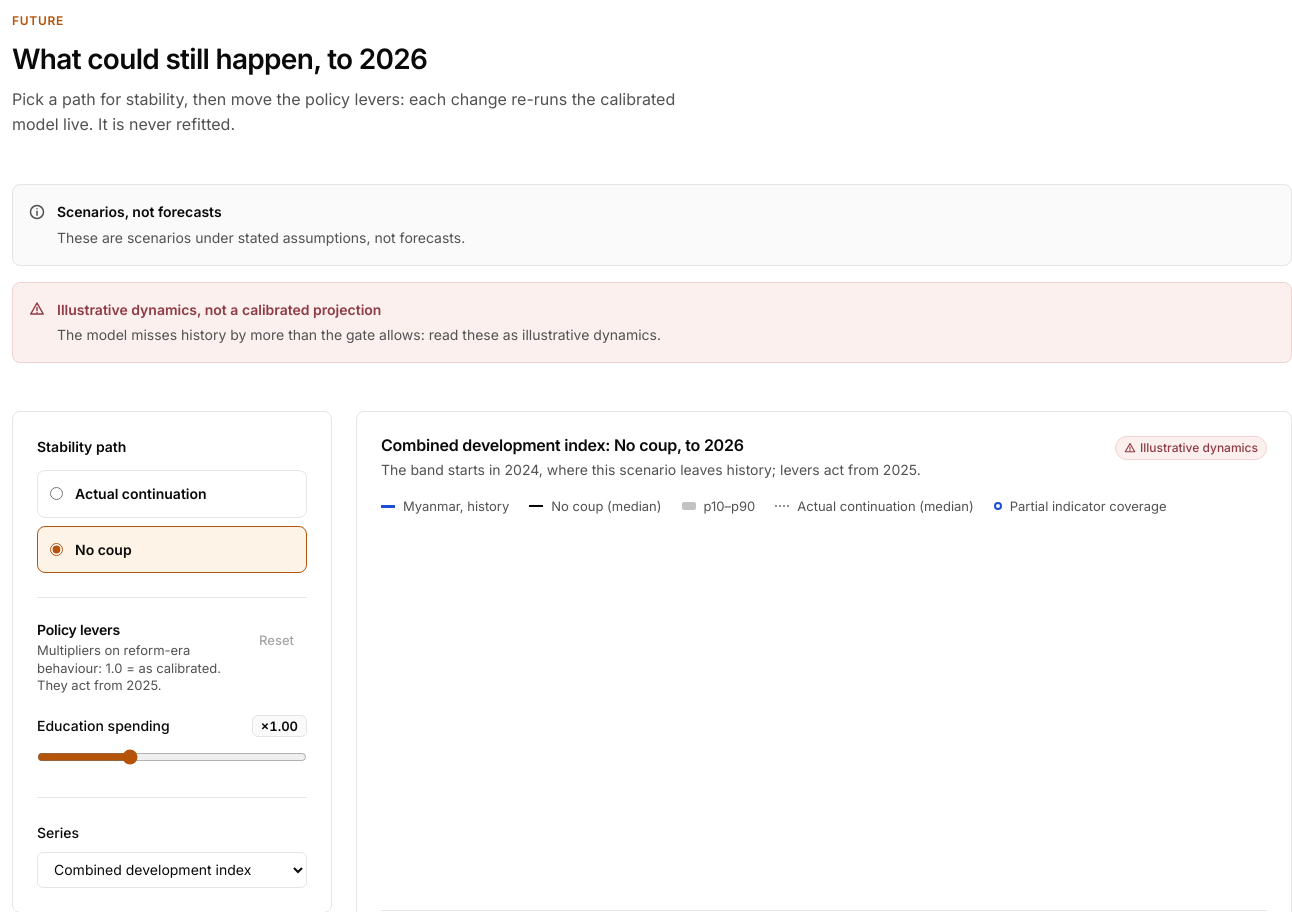
Test case: Future › keeps every caveat visible through a lever change for a non-credible model
Check: the text "Scenarios, not forecasts" is shown, box [57,203,222,220]
Check: the text "The model misses history by more than the gate allows: read these as illustrative dynamics." is shown, box [57,326,661,343]
Set the slider labelled "Education spending" to "1.5" at {"x": 214, "y": 757}, box [37,741,307,773]
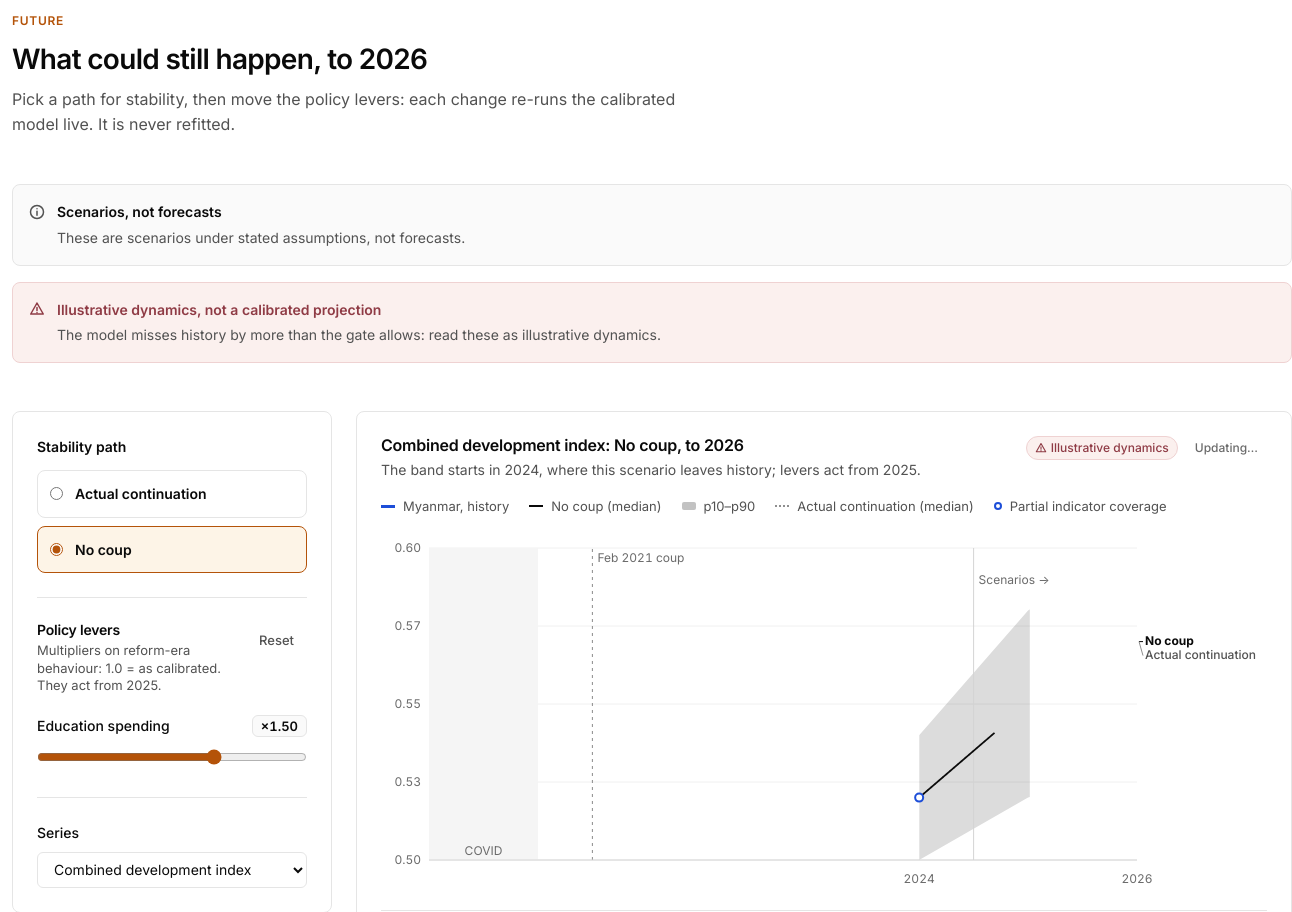
Check: the text "Illustrative dynamics" is shown, box [1026,436,1178,460]
Check: the text "Updating…" is shown, box [1195,440,1258,455]
